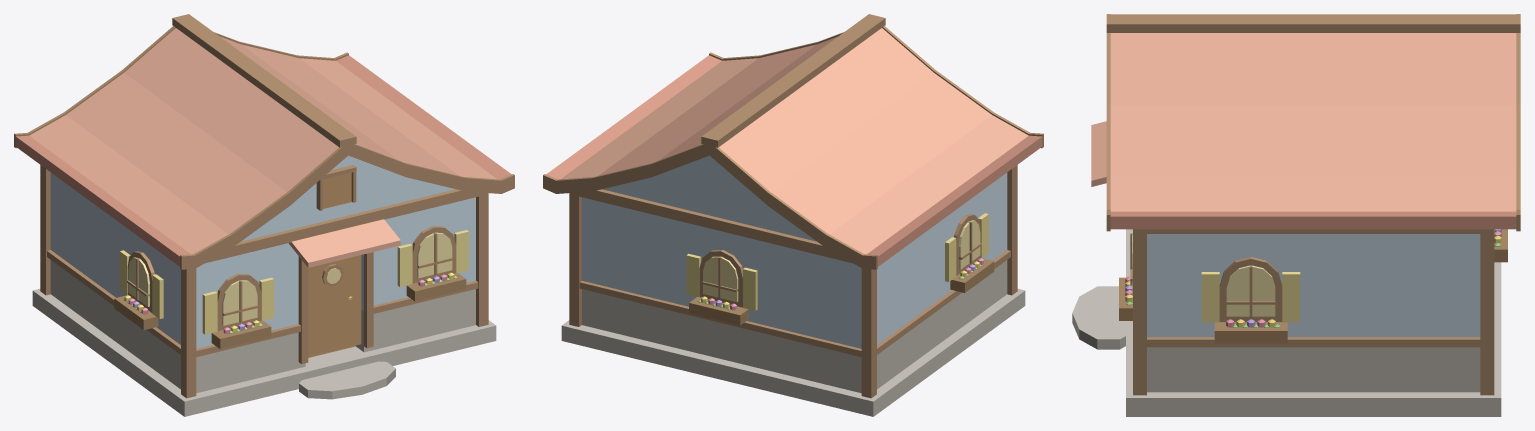
The model's file is farmhouse_sky.glb.
3 renders of one model, left to right at view 1: azimuth 30°, elevation 25°; view 2: azimuth 150°, elevation 25°; view 3: azimuth 270°, elevation 25°, orthographic. The views are drawn at different scales.
Visible parts, largest first — view 1: Player; view 2: Player; view 3: Player.
Part boxes in pixels (bbox=[...]): Player: bbox=[14, 14, 514, 416]; Player: bbox=[543, 14, 1043, 416]; Player: bbox=[1072, 14, 1520, 416].
Size of the model in its own units: 6.84 by 4.82 by 6.45.
